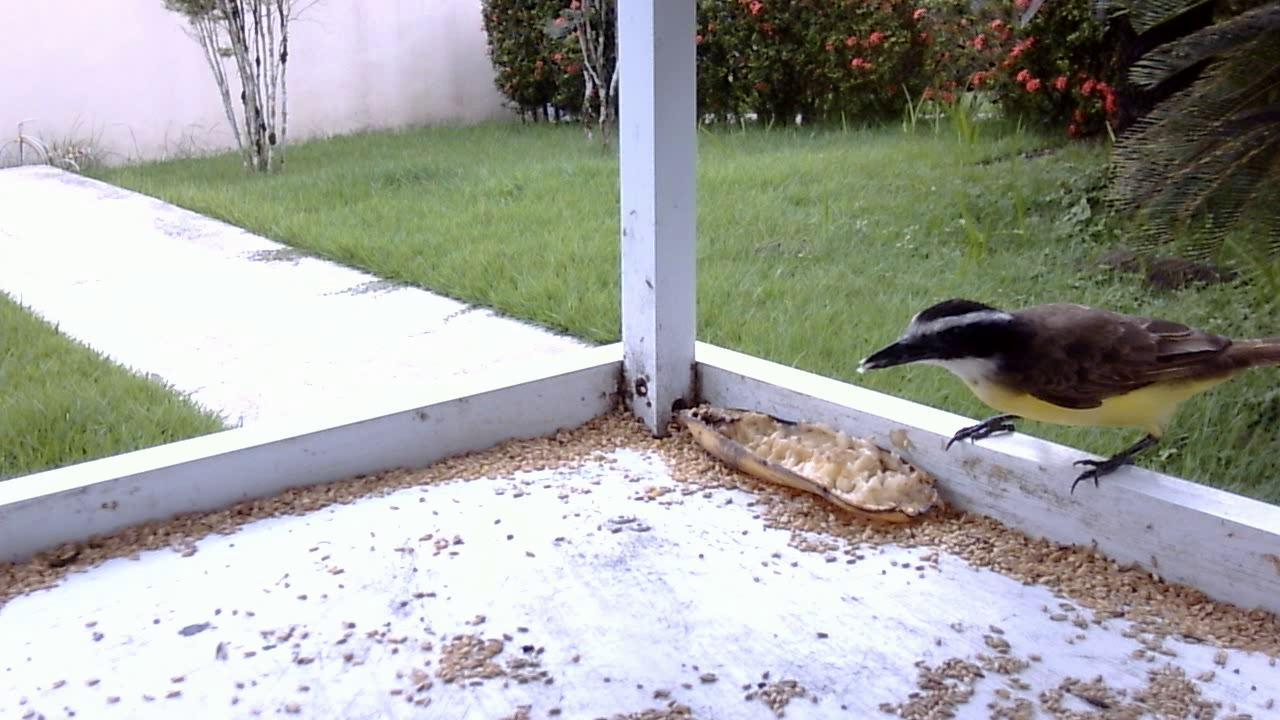bem_te_vi: (844, 280, 1278, 515)
